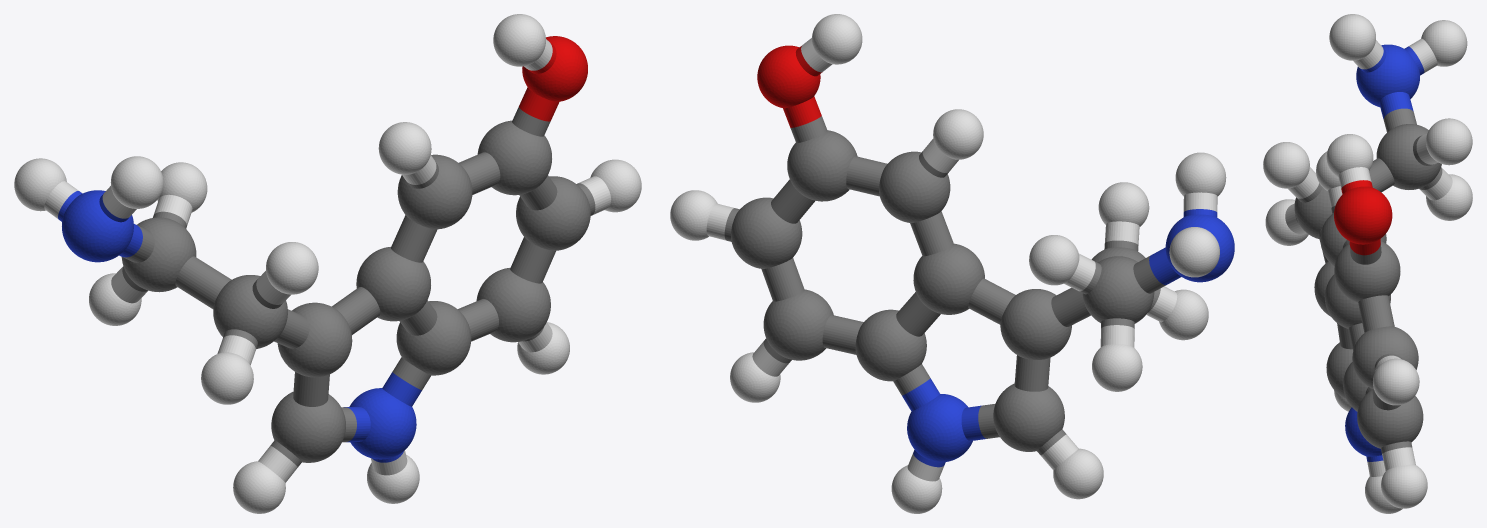
File: serotonina.glb
The picture shows the model from 3 angles, left to right: view 1: azimuth 30°, elevation 25°; view 2: azimuth 150°, elevation 25°; view 3: azimuth 270°, elevation 25°; orthographic projection. The views are drawn at different scales.
Visible parts, largest first — view 1: atoms, bonds; view 2: atoms, bonds; view 3: atoms, bonds.
Boxes of the visible parts, x1=… form: atoms: x1=14, y1=14, x2=641, y2=513; bonds: x1=44, y1=39, x2=611, y2=482; atoms: x1=670, y1=14, x2=1234, y2=513; bonds: x1=706, y1=38, x2=1217, y2=481; atoms: x1=1263, y1=14, x2=1472, y2=513; bonds: x1=1285, y1=38, x2=1452, y2=476.
Size of the model in its own units: 9.34 by 7.15 by 3.23.
